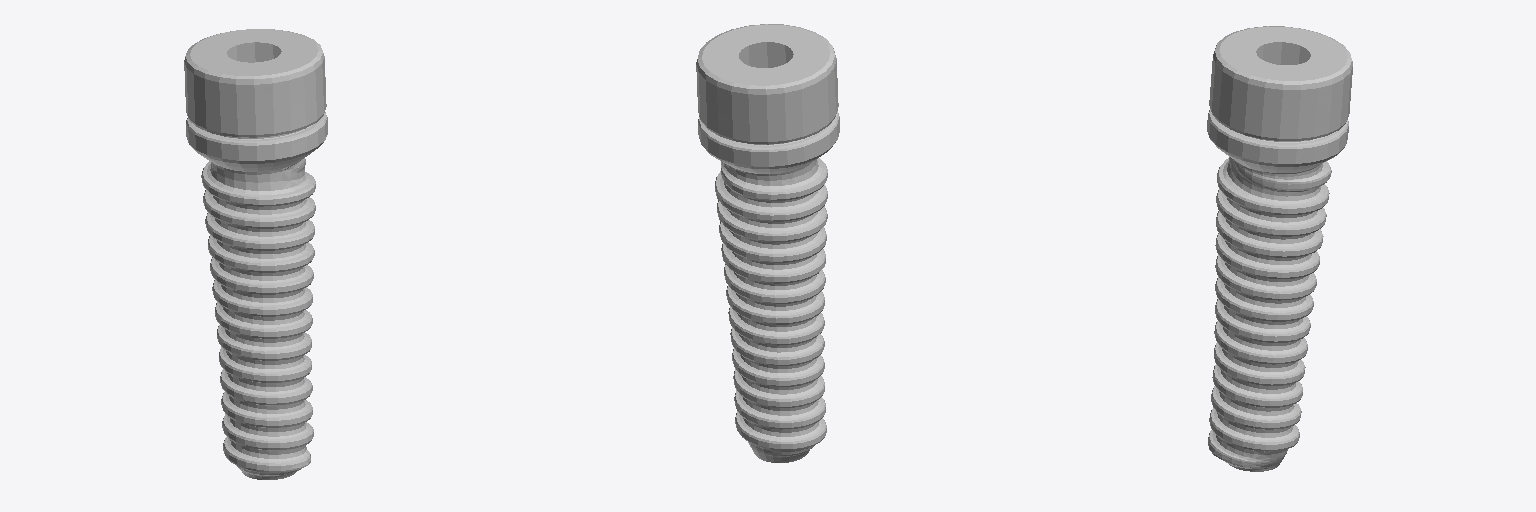
The model's file is screw_down_big.obj.
3 views of the same model, side by side, from view 1: azimuth 30°, elevation 25°; view 2: azimuth 150°, elevation 25°; view 3: azimuth 270°, elevation 25° (orthographic).
Visible parts, largest first — view 1: screw_down1; view 2: screw_down1; view 3: screw_down1.
Part boxes in pixels (x1,y1,x2,y2): screw_down1: (184,29,327,479); screw_down1: (696,24,839,462); screw_down1: (1207,26,1352,471).
Size of the model in its own units: 0.0071 by 0.0228 by 0.0074.